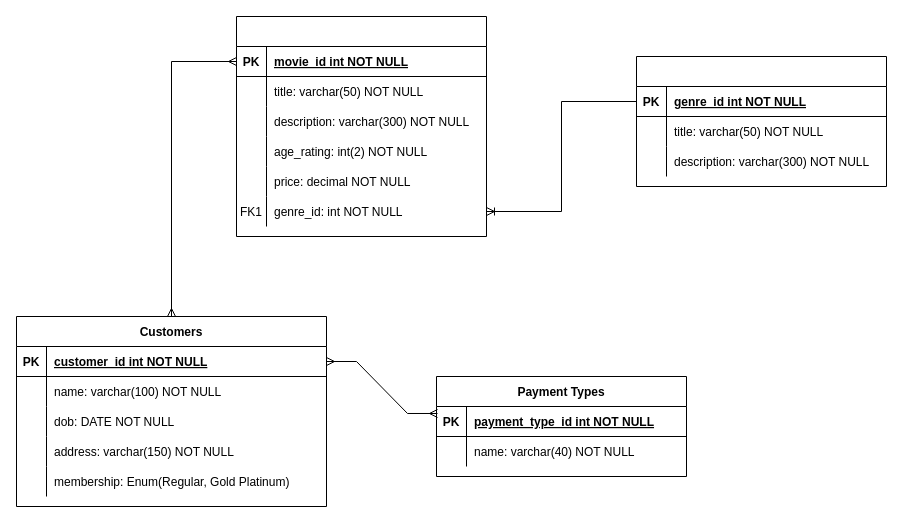
The diagram is 903 pixels wide and 523 high, and some of its shapes have lost their labels. The box of each missing label's shape, as (x1, y1, x2, y2) in pixels:
Genres: (636, 56, 886, 186)
Movies: (236, 16, 486, 236)
